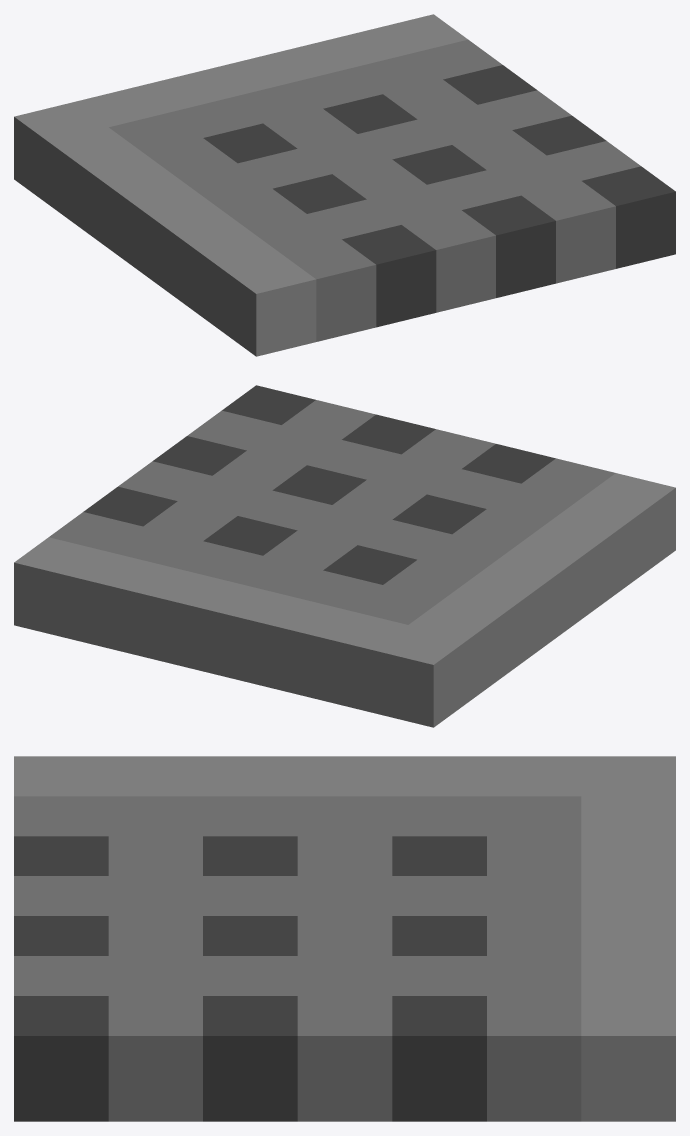
Rendered from environ-grate3.obj.
The picture shows the model from 3 angles, top to bottom: view 1: azimuth 30°, elevation 25°; view 2: azimuth 150°, elevation 25°; view 3: azimuth 270°, elevation 25°; orthographic projection. The views are drawn at different scales.
Parts seen in each view (by area): view 1: grate3; view 2: grate3; view 3: grate3.
Boxes of the visible parts, x1,y1,x2,y2 form: grate3: [14, 14, 675, 356]; grate3: [14, 385, 675, 727]; grate3: [14, 756, 675, 1121].
Bounding box in the file's own units: 0.7 × 0.1 × 0.7.
